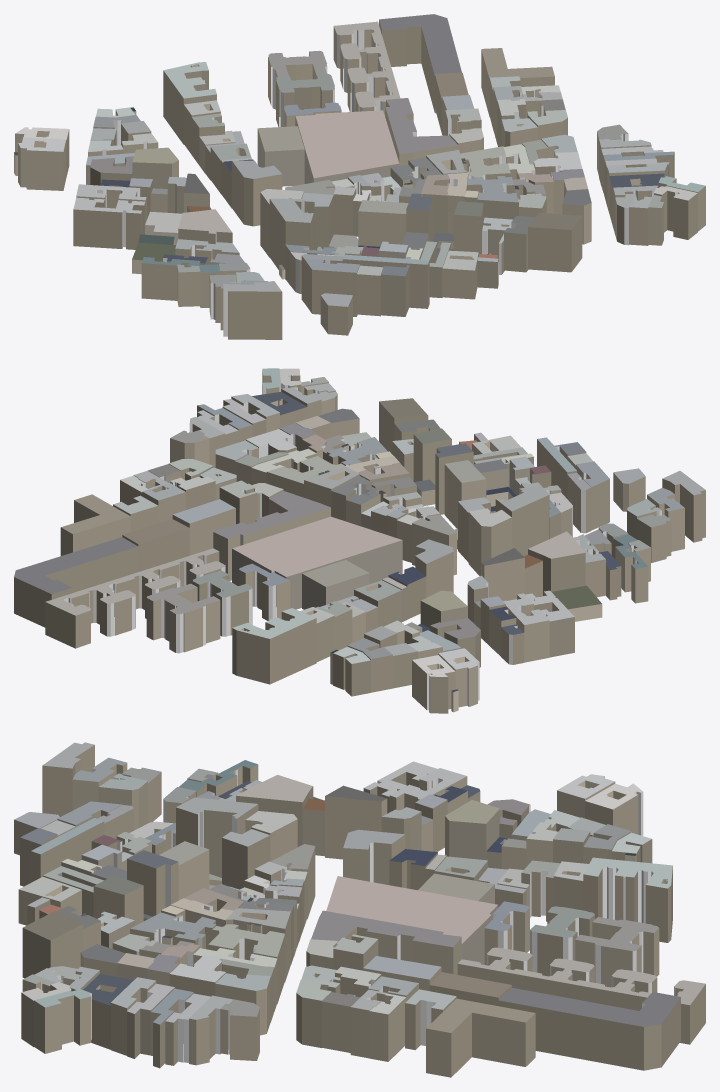
3 renders of one model, top to bottom at view 1: azimuth 30°, elevation 25°; view 2: azimuth 150°, elevation 25°; view 3: azimuth 270°, elevation 25°, orthographic. The views are drawn at different scales.
Parts seen in each view (by area): view 1: tuile; view 2: tuile; view 3: tuile.
Boxes of the visible parts, x1,y1,x2,y2 form: tuile: [14, 14, 705, 339]; tuile: [14, 368, 705, 713]; tuile: [14, 742, 705, 1077].
Bounding box in the file's own units: 280 × 39.04 × 287.
